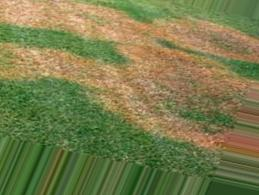patch: (140, 58, 225, 119), (1, 1, 134, 36), (122, 88, 204, 143), (176, 22, 256, 63), (10, 52, 98, 78)
